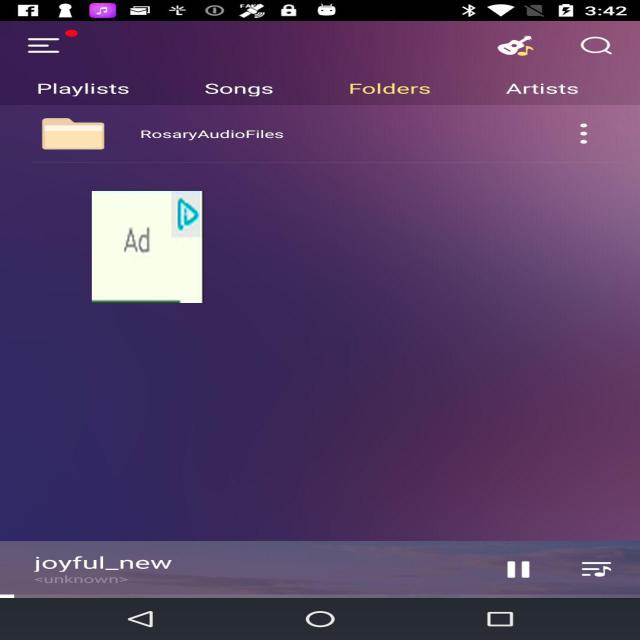sneaking: (92, 191, 204, 303)
